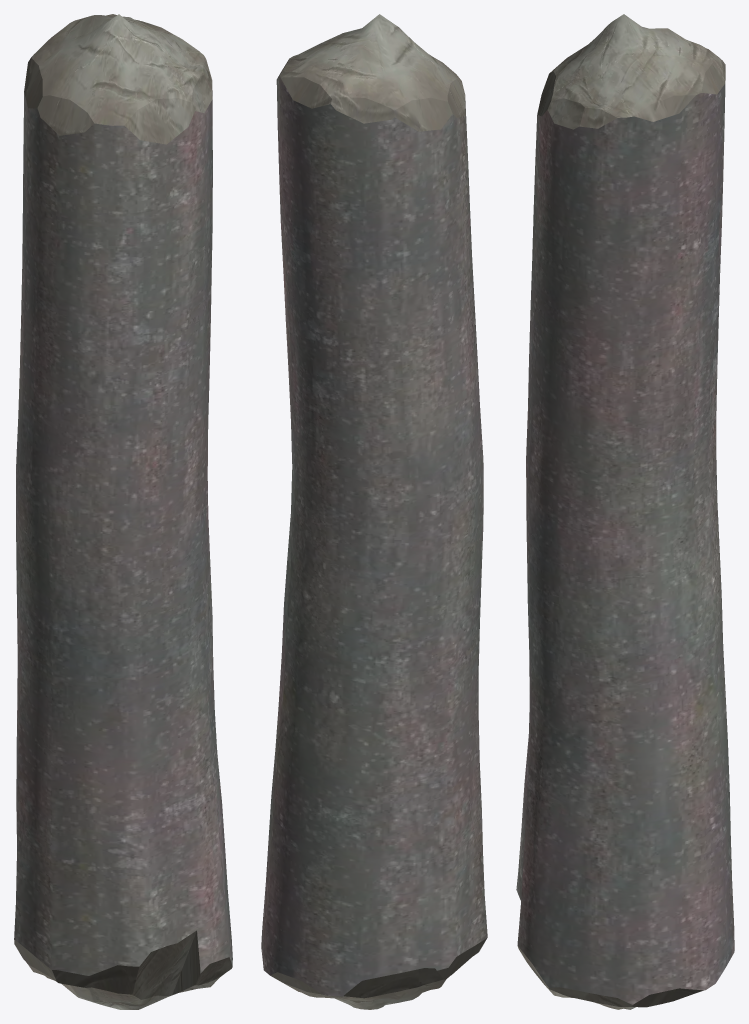
3 views of the same model, side by side, from view 1: azimuth 30°, elevation 25°; view 2: azimuth 150°, elevation 25°; view 3: azimuth 270°, elevation 25° (orthographic).
Visible parts, largest first — view 1: SM_GF_Ash_Tree_02_quarter_01_LOD0; view 2: SM_GF_Ash_Tree_02_quarter_01_LOD0; view 3: SM_GF_Ash_Tree_02_quarter_01_LOD0.
Boxes of the visible parts, left/top/right/bottom form: SM_GF_Ash_Tree_02_quarter_01_LOD0: left=14, top=14, right=232, bottom=1009; SM_GF_Ash_Tree_02_quarter_01_LOD0: left=261, top=14, right=487, bottom=1009; SM_GF_Ash_Tree_02_quarter_01_LOD0: left=516, top=14, right=734, bottom=1009.
Bounding box in the file's own units: 0.4565 × 2.26 × 0.4532.
Materials: 1 (1 with a texture image).
